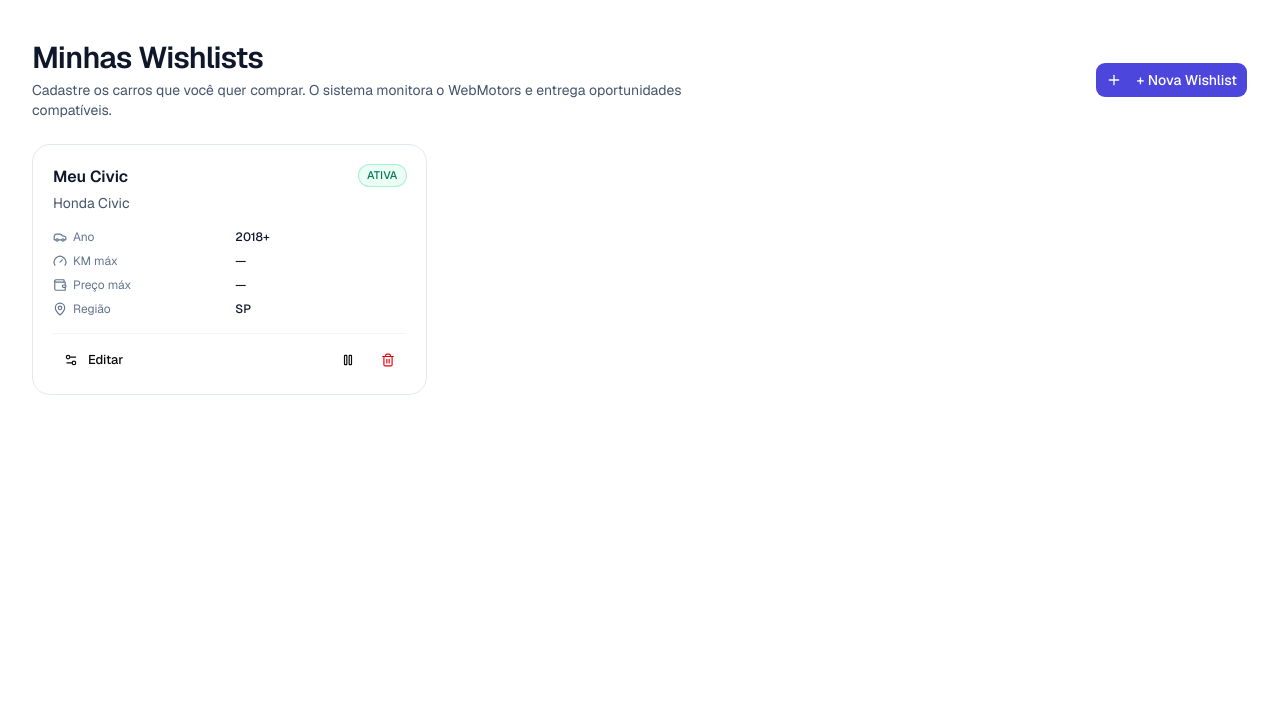
Test: WishlistModule › opens AlertDialog with 'Apagar wishlist?' on delete click
Note: Card delete button uses aria-label "Apagar"
Step 1. Click the button named "Apagar" → (388, 360), box [370,346,406,374]
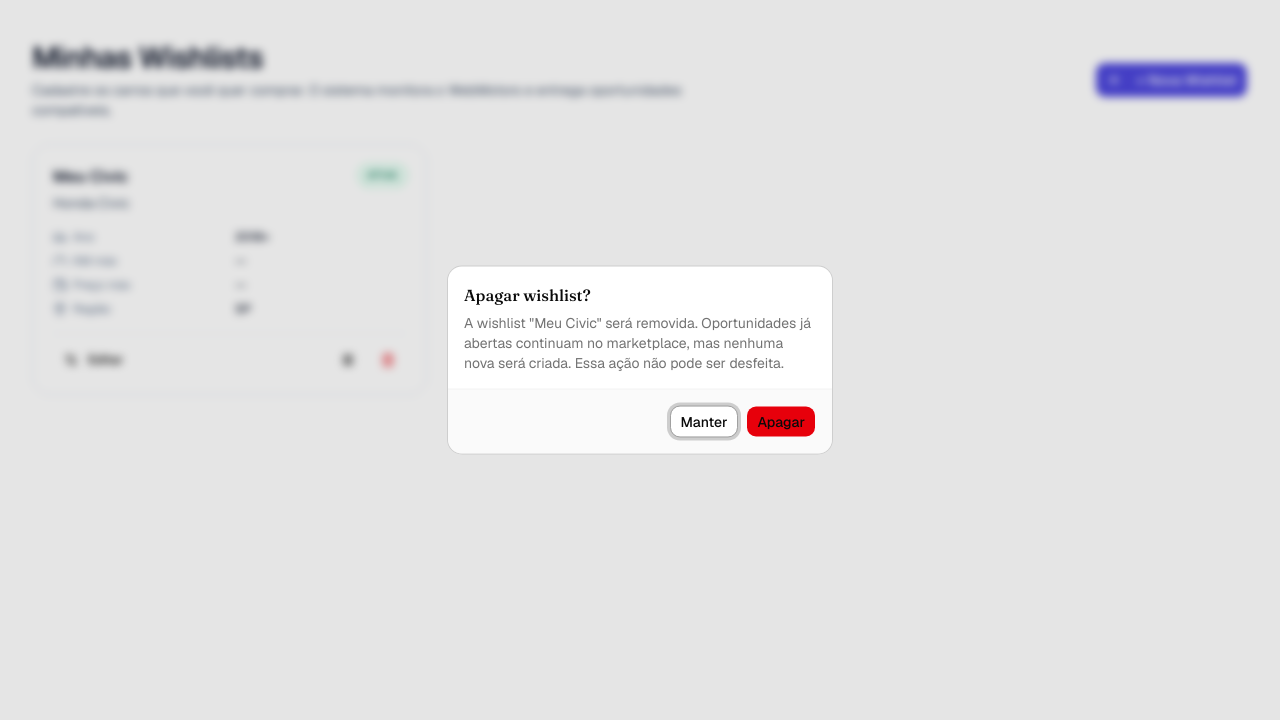
Check: the heading "Apagar wishlist?" is shown, box [464,282,591,306]
